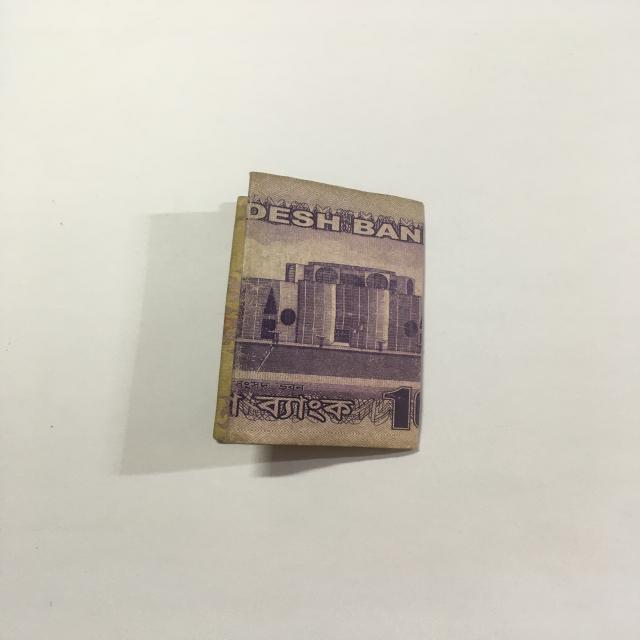Taka: (224, 158, 446, 459)
